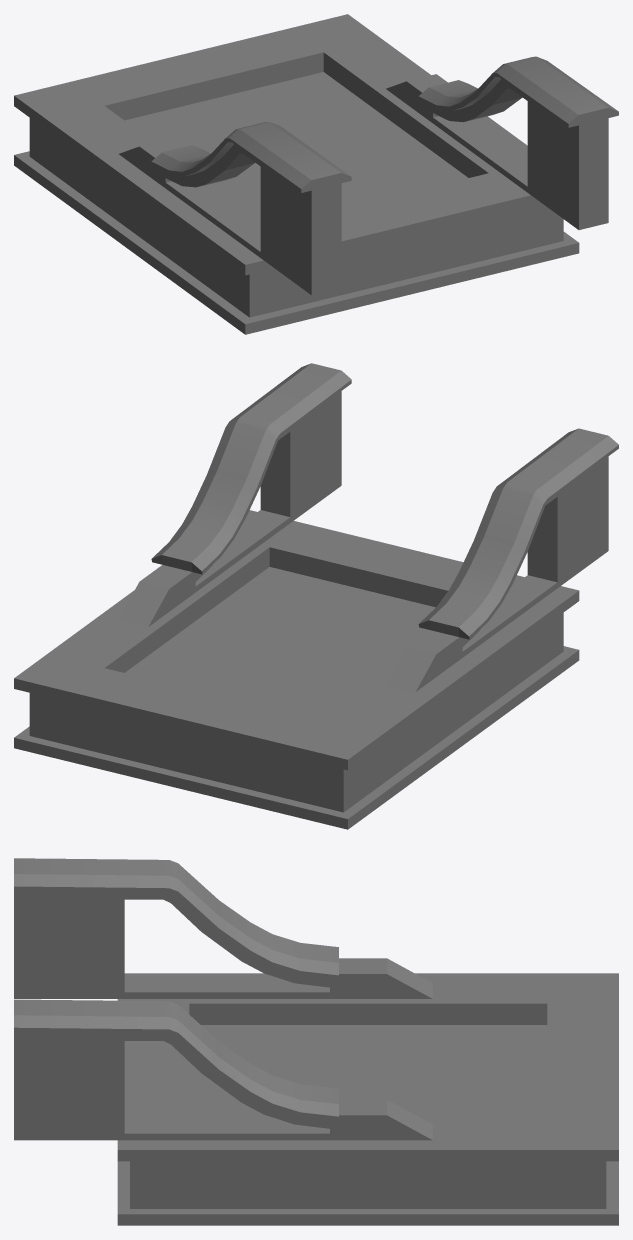
Rendered from tesla_modules1_exterior_cap_01.dae.
The picture shows the model from 3 angles, top to bottom: view 1: azimuth 30°, elevation 25°; view 2: azimuth 150°, elevation 25°; view 3: azimuth 270°, elevation 25°; orthographic projection. The views are drawn at different scales.
Parts seen in each view (by area): view 1: polySurface305; view 2: polySurface305; view 3: polySurface305.
Boxes of the visible parts, bbox=[...] form: polySurface305: bbox=[14, 14, 618, 334]; polySurface305: bbox=[14, 363, 618, 829]; polySurface305: bbox=[14, 858, 618, 1225].
Bounding box in the file's own units: 5000 × 2649 × 7240.
